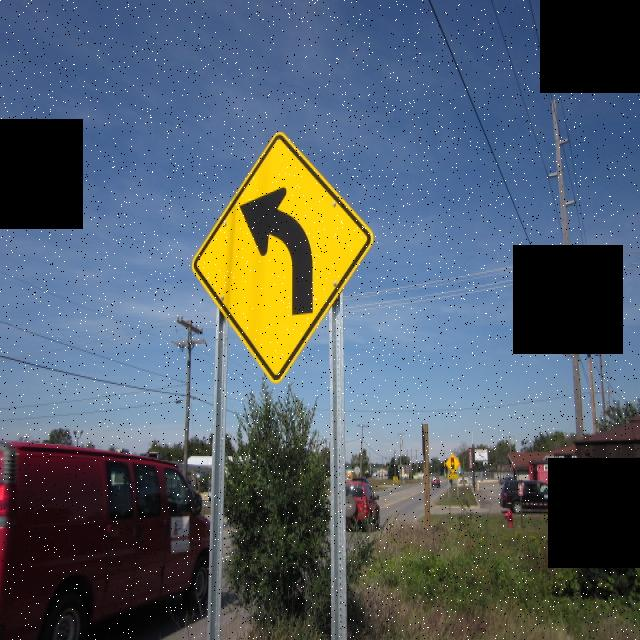warning: (193, 132, 375, 379)
